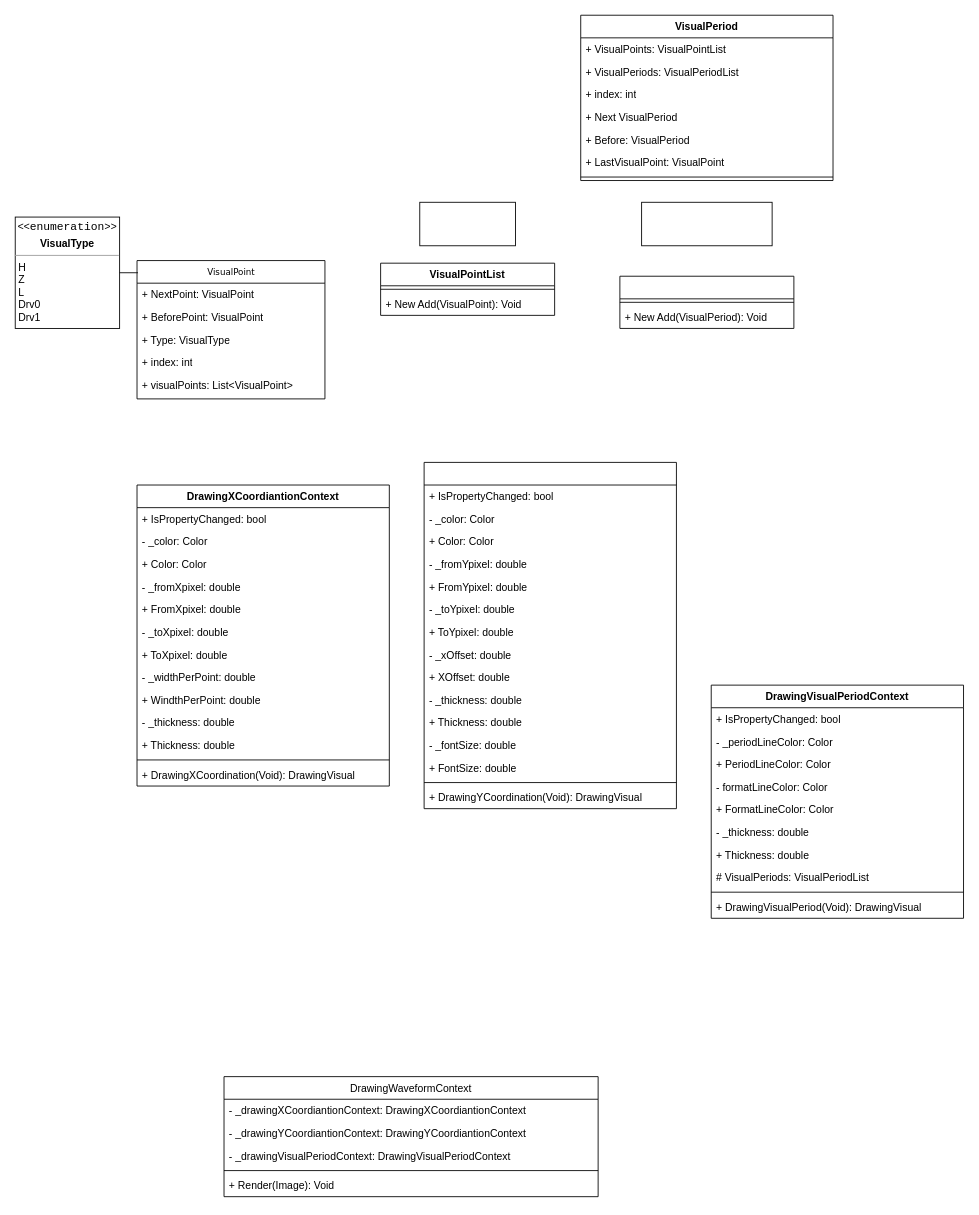
Image size: 979x1215. Some labels were removed from this diagram. Here are the shapes that lost their labels. From the top down, the box of each, then its label:
(419, 201, 515, 246): List<VisualPoint>
(641, 201, 772, 246): List<VisualPeriod>
(619, 275, 794, 328): VisualPeriodList
(423, 462, 676, 809): DrawingYCoordiantionContext
